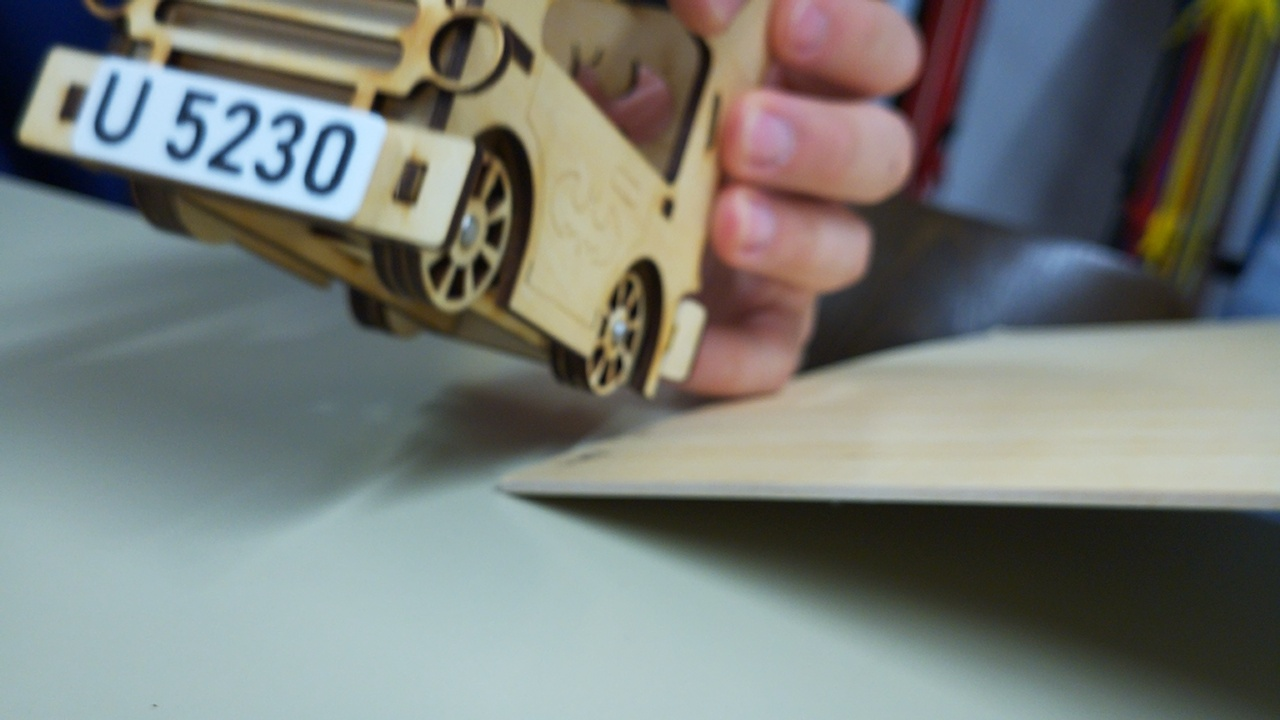license_plate: (73, 51, 389, 228)
